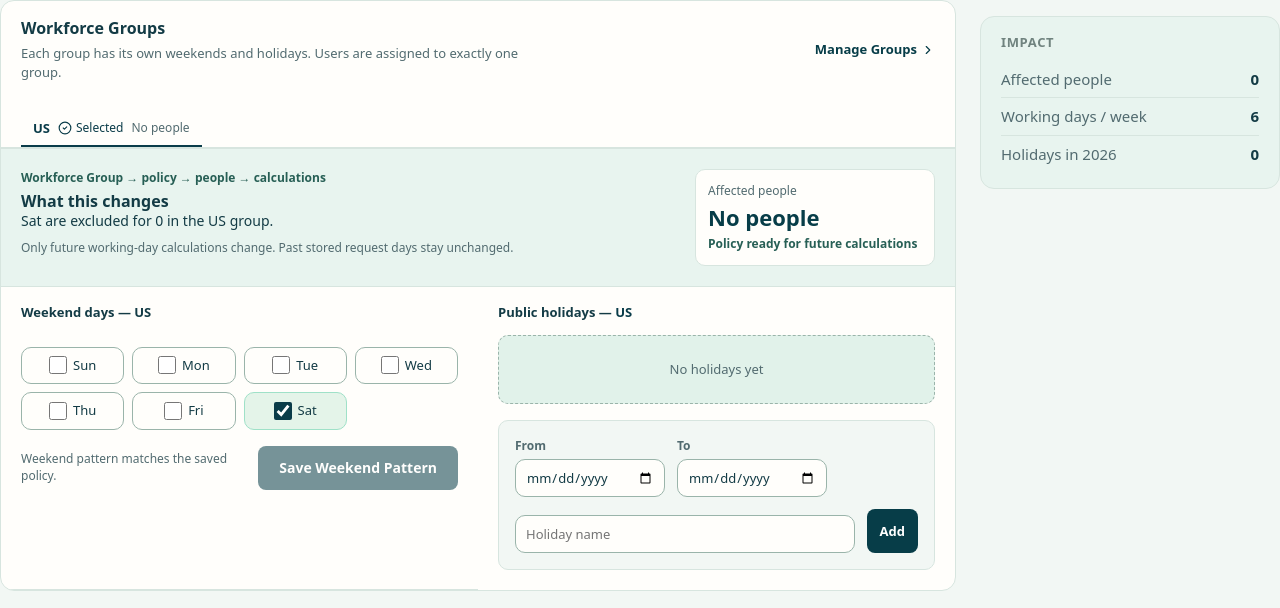
Test case: WorkforceGroupsWeekendsCard › keeps the impact visible and disables Save for a zero-day draft
Click the checkbox named "Sat weekend day for US".
click(283, 411)  # box [274,402,292,420]
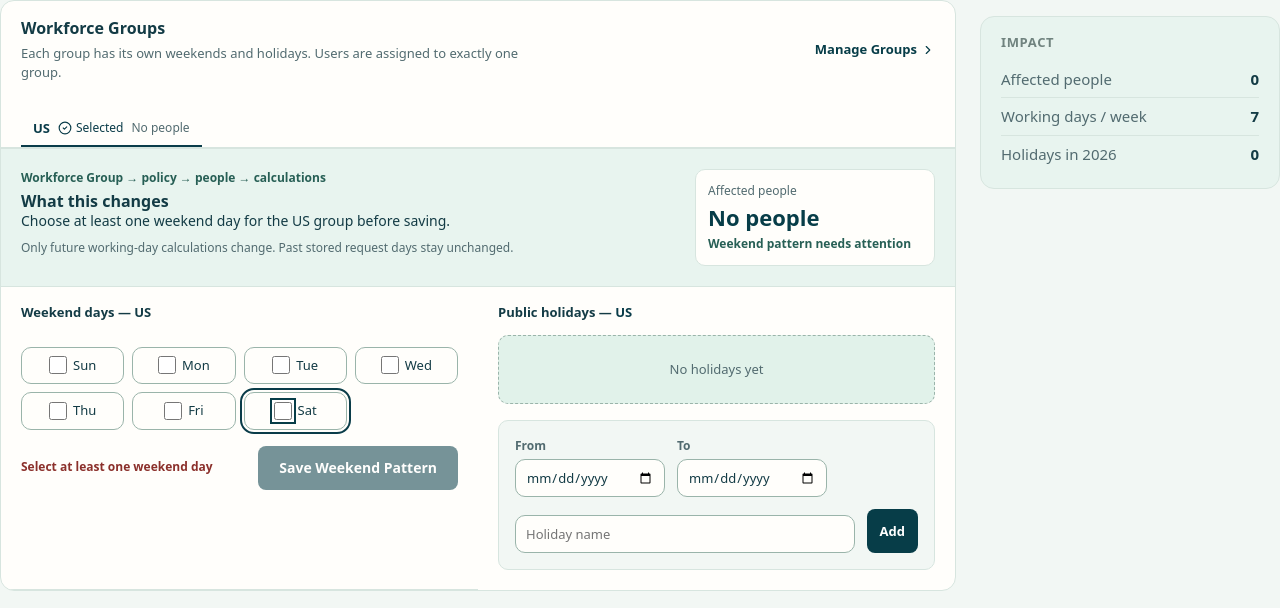
Expected: the element with test id "working-calendars-impact" is shown, [1,148,955,287]
Expected: the text "Select at least one weekend day" is shown, [21,459,213,476]
